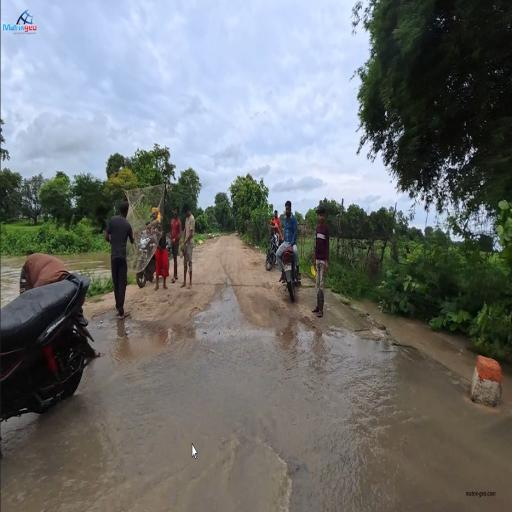longitudinal_crack: (200, 275, 262, 298)
